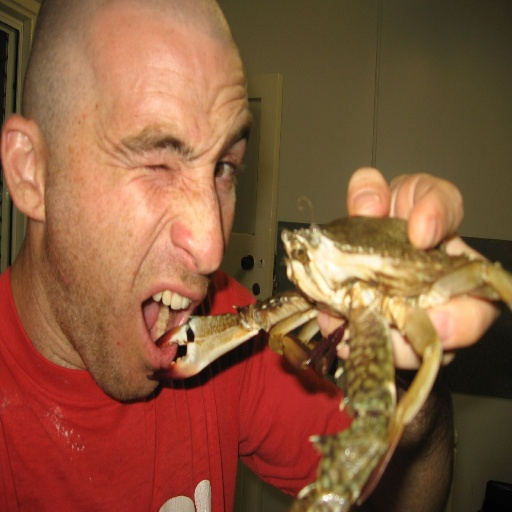hand: (317, 165, 503, 369)
